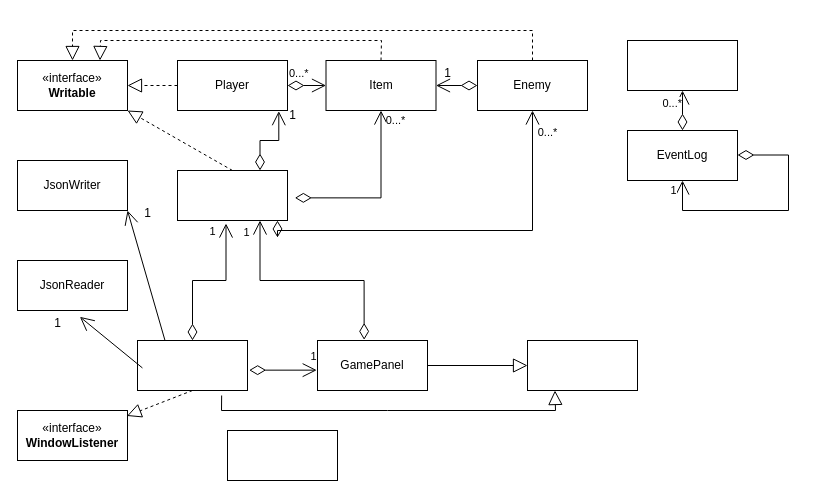
This 823x498 diagram has some shape labels left out. Each missing label, with the centre of its shape:
Event: (x=682, y=65)
JFrame: (x=582, y=365)
Main: (x=282, y=455)
SurvivorGame: (x=232, y=195)
SurvivorGameGUI: (x=192, y=365)
